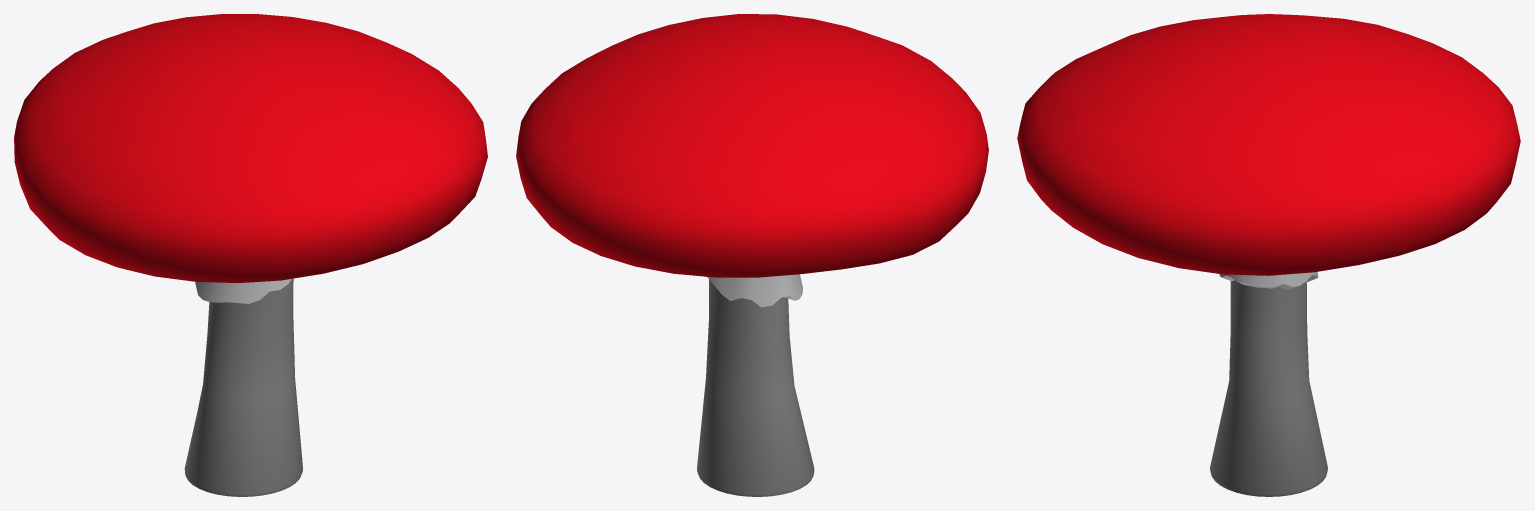
The model's file is amanita_muscaria.fbx.
The picture shows the model from 3 angles, left to right: view 1: azimuth 30°, elevation 25°; view 2: azimuth 150°, elevation 25°; view 3: azimuth 270°, elevation 25°; orthographic projection. The views are drawn at different scales.
Parts seen in each view (by area): view 1: Cylinder; view 2: Cylinder; view 3: Cylinder.
Part boxes in pixels (left/top/right/bottom): Cylinder: left=14, top=14, right=487, bottom=496; Cylinder: left=516, top=14, right=988, bottom=496; Cylinder: left=1017, top=14, right=1520, bottom=496.
Size of the model in its own units: 937 by 917 by 978.
